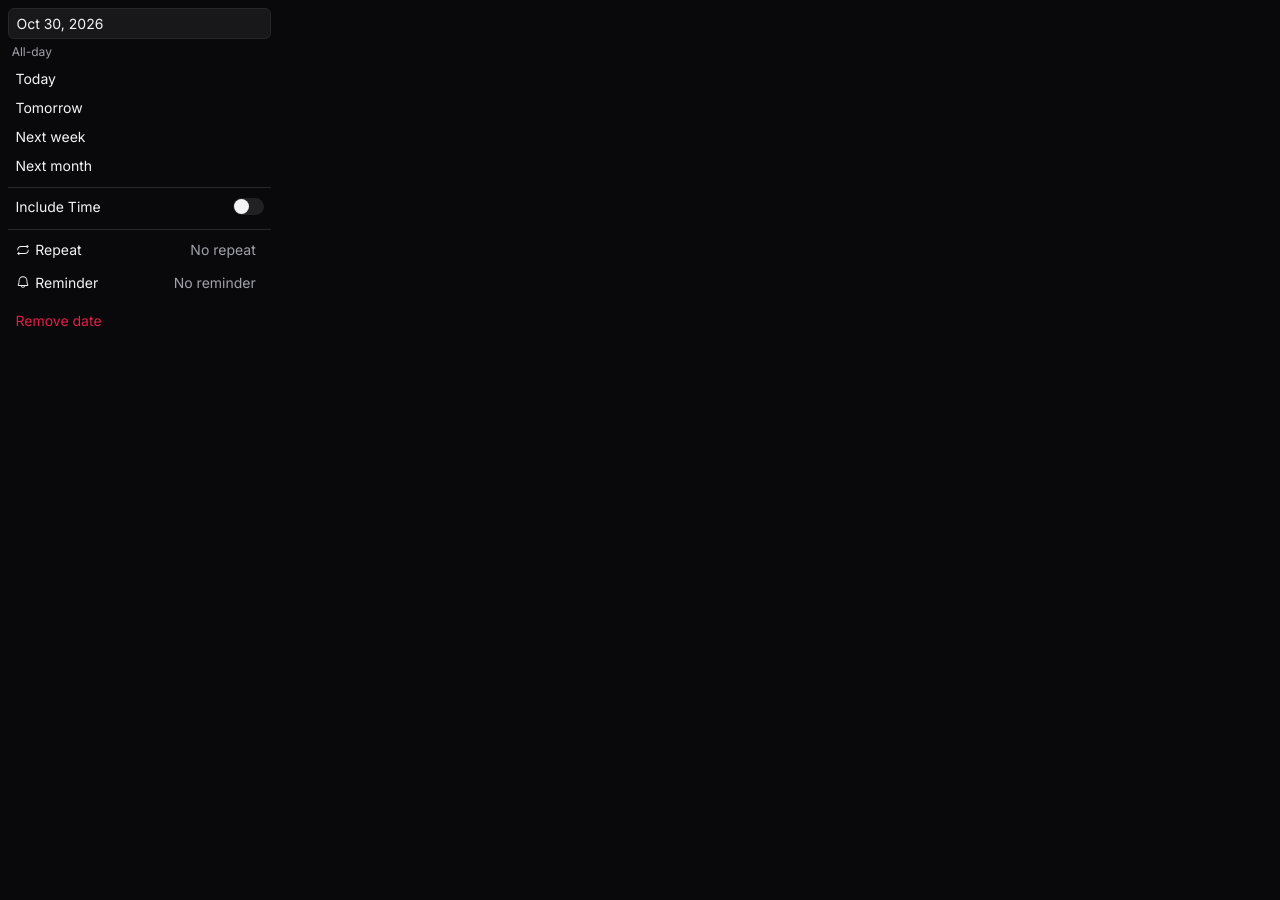
Scenario: DatePicker: the Task date › Custom opens the Custom repeat panel in place and saves the rule
The image size is (1280, 900).
Click the button with aria-label "Repeat: No repeat".
click(223, 250)  # box [183,237,264,262]
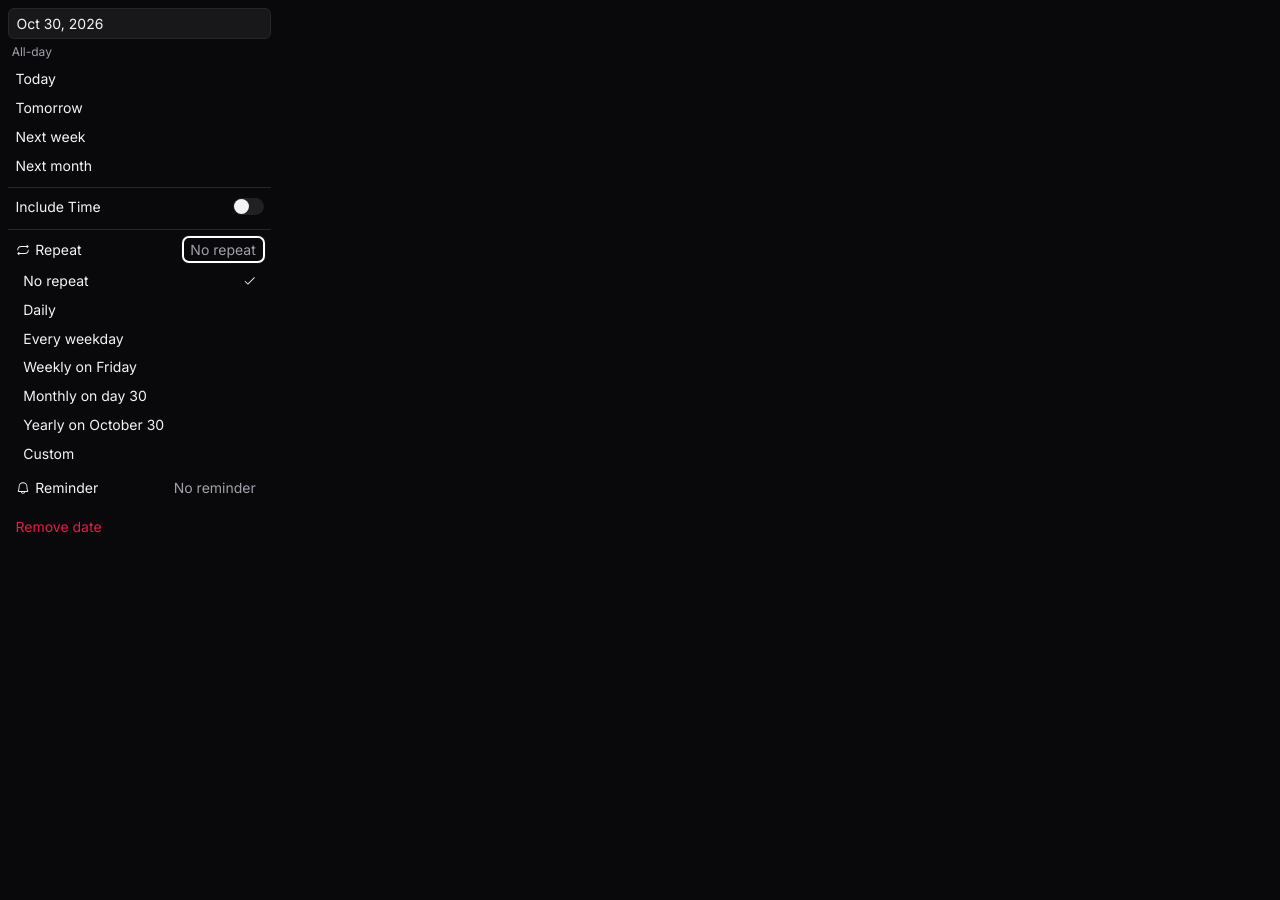
Click the menu item "Custom".
click(140, 453)  # box [16,439,264,467]
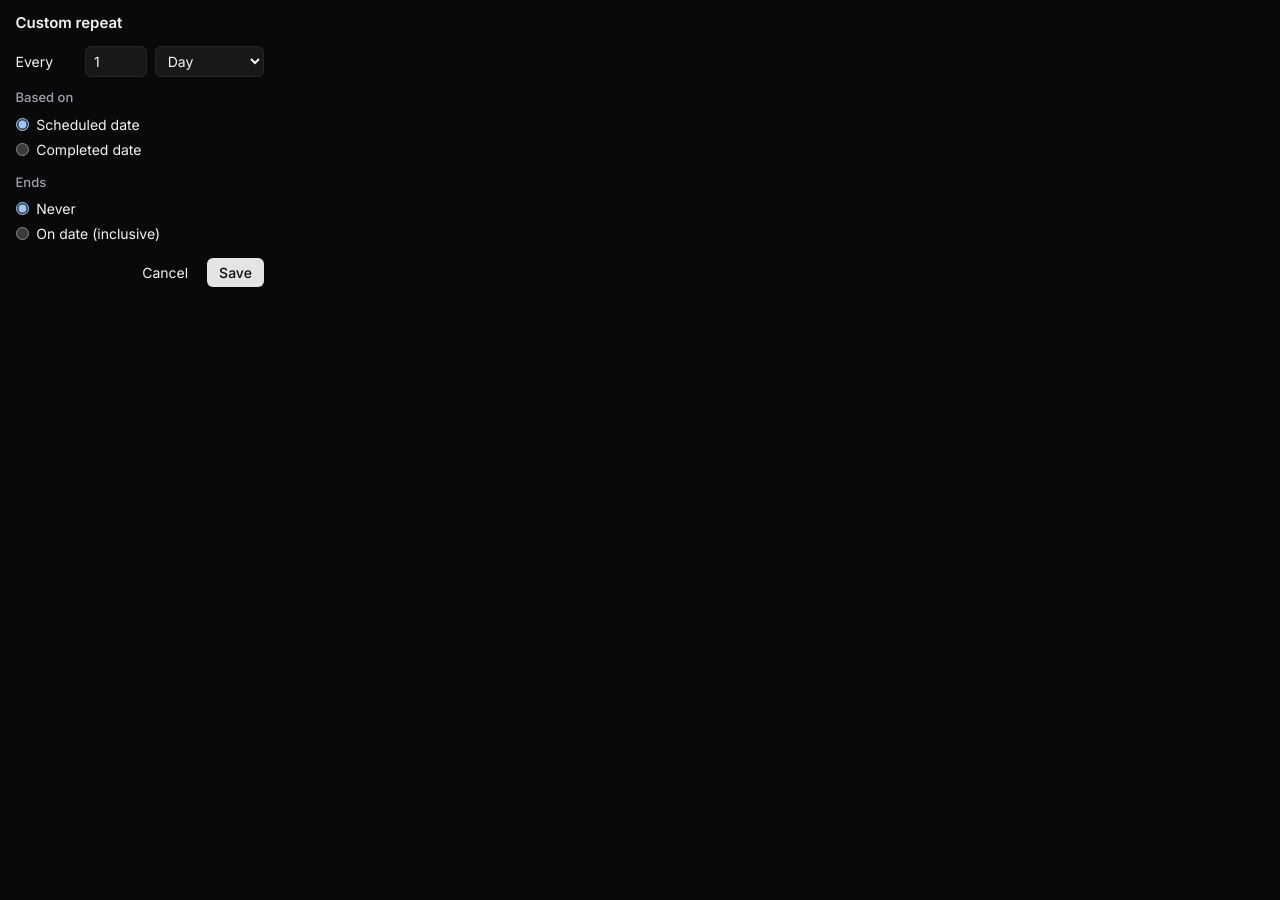
Expected: the dialog "Custom repeat" is shown, [8,8,271,291]
Replace the text in the number field labelled "Every" with "3" at x=116, y=61, box [85,46,147,77]
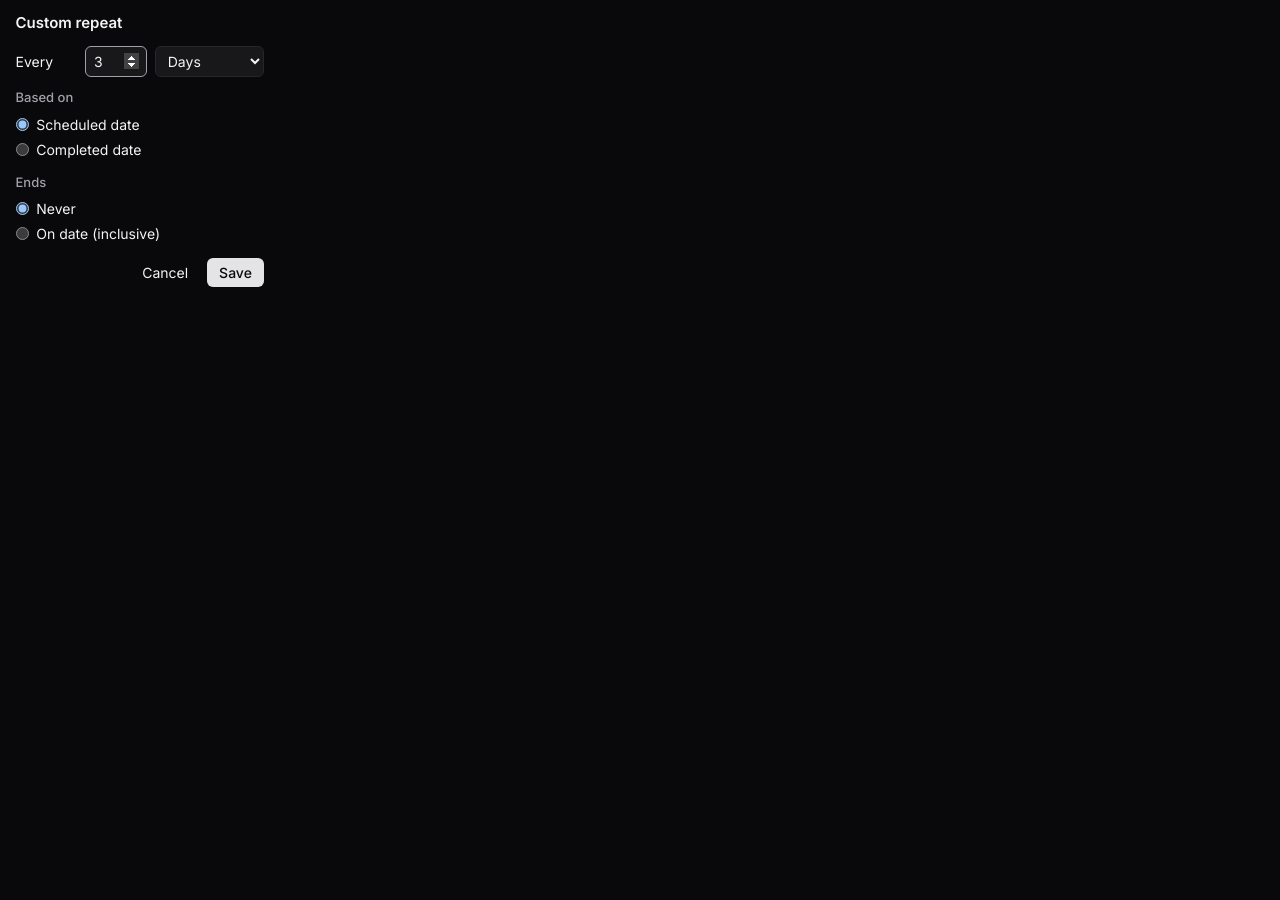
Click the button "Save".
click(236, 272)  # box [208,258,264,287]
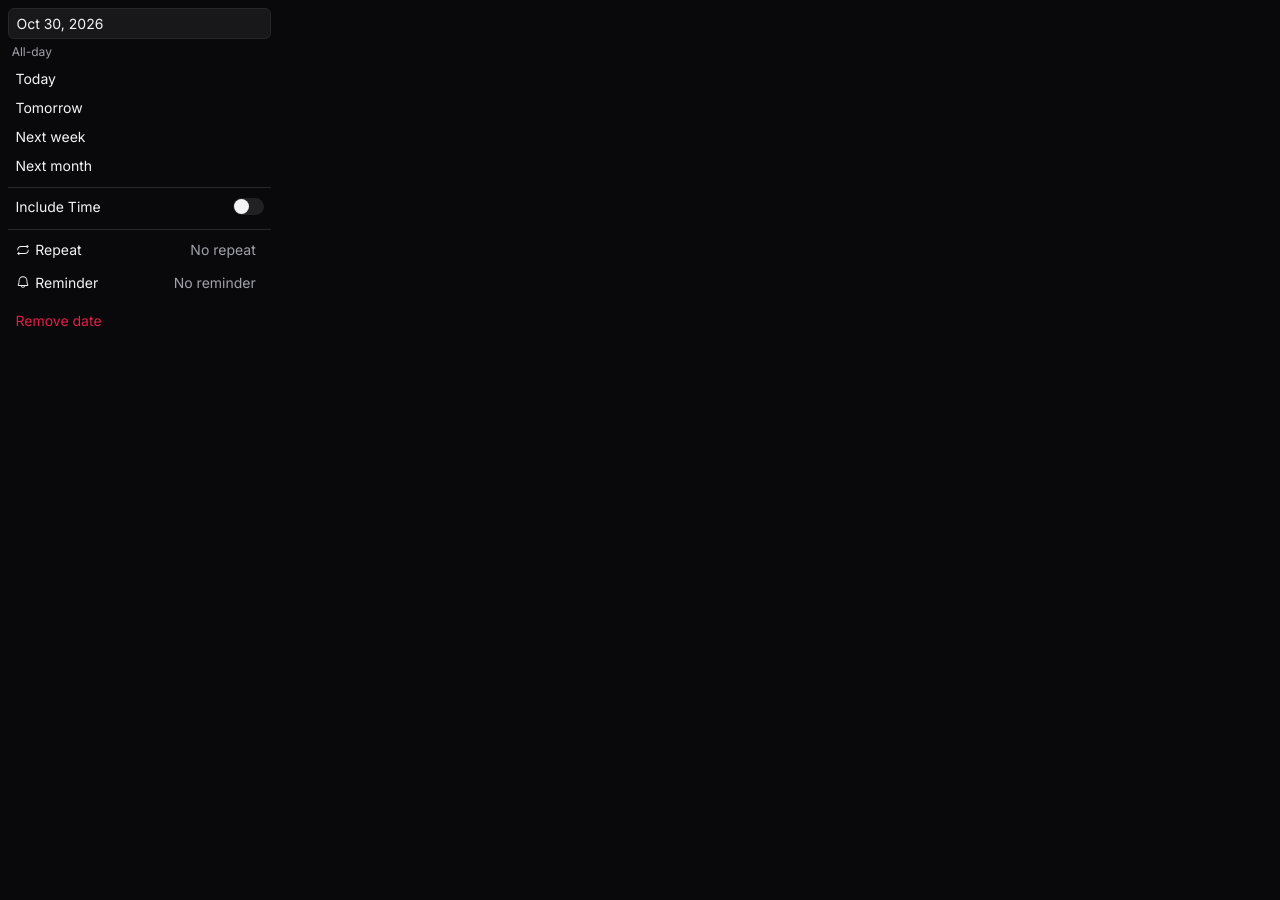
Expected: the heading "Custom repeat" is gone
